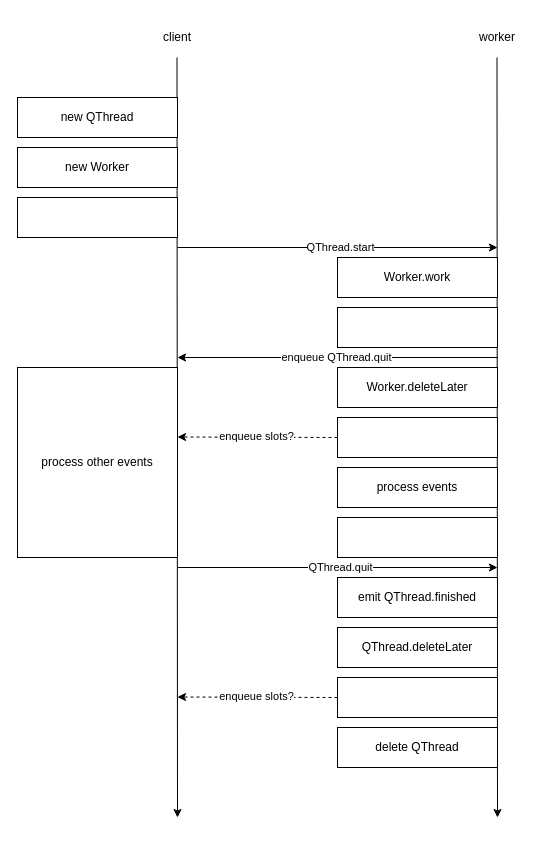
The diagram is 545 pixels wide and 843 high, and some of its shapes have lost their labels. Each missing label, with the centre of its shape:
delete Worker: (417,537)
emit Worker.finished: (417,327)
process other connections: (417,437)
process other connections?: (417,697)
Worker.moveToThread: (97,217)
